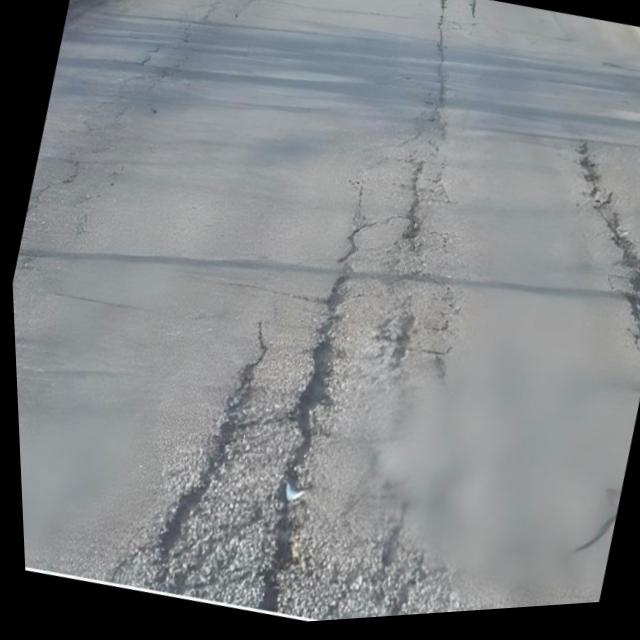Crack: (31, 152, 266, 604), (407, 34, 594, 426), (142, 15, 297, 274), (417, 369, 577, 619)
